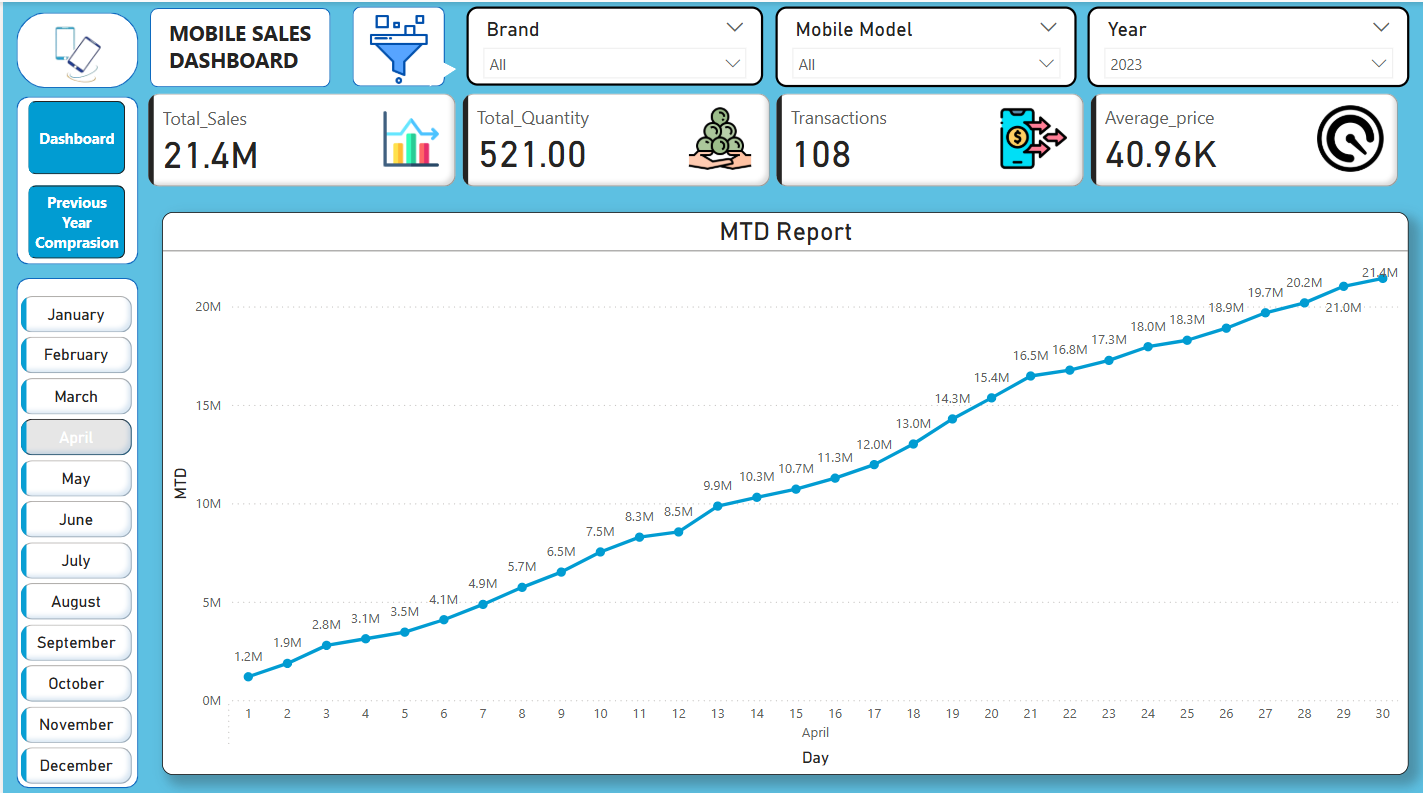

This screenshot's page, from the dashboard's own definition file:
{"tool":"powerbi","page":{"name":"MTD Dashboard","canvas":[1280,720],"ordinal":1},"visuals":[{"type":"shape","box":[12.5,9.7,109.7,68.1],"z":0},{"type":"image","box":[25,0,86.1,94.4],"z":1000},{"type":"shape","box":[12.5,84.7,109.7,151.4],"z":2000},{"type":"shape","box":[12.5,248.6,109.7,459.7],"z":3000},{"type":"advancedSlicerVisual","fields":{"Values":["Custom_Calender.Date.Variation.Date Hierarchy.Month"]},"box":[10.6,258.9,110.5,460.3],"z":4000},{"type":"cardVisual","fields":{"Data":["Mobile_Sales_Data.Total_Sales","Mobile_Sales_Data.Total_Quantity","Mobile_Sales_Data.Transactions","Mobile_Sales_Data.Average_price"]},"box":[111.4,77.1,1168.6,94.3],"z":5000},{"type":"slicer","fields":{"Values":["Mobile_Sales_Data.Mobile Model"]},"box":[695.7,4.3,271.4,72.9],"z":6000},{"type":"slicer","fields":{"Values":["Custom_Calender.Date.Variation.Date Hierarchy.Year"]},"box":[977.1,4.3,290,72.9],"z":7000},{"type":"slicer","fields":{"Values":["Mobile_Sales_Data.Brand"]},"box":[417.1,4.3,267.1,71.4],"z":8000},{"type":"shape","box":[314.3,4.3,83.3,72.2],"z":9000,"group":"g1"},{"type":"group","id":"g1","title":"Group 1","box":[314.3,4.3,102.9,71.4],"z":9000},{"type":"image","box":[295.7,5.7,121.4,74.3],"z":10000},{"type":"shape","box":[132.9,5.7,162.9,71.4],"z":11000},{"type":"shape","box":[374,47.4,43.1,29.2],"z":11000,"group":"g1"},{"type":"textbox","box":[144.3,10,151.4,74.3],"z":12000},{"type":"lineChart","title":"MTD Report","fields":{"Y":["Mobile_Sales_Data.MTD"],"Category":["Custom_Calender.Date.Variation.Date Hierarchy.Month","Custom_Calender.Date.Variation.Date Hierarchy.Day"]},"box":[143.8,189.3,1123.5,507.3],"z":13000},{"type":"pageNavigator","box":[22.7,89.3,87.8,142.3],"z":13001}]}

Visuals, with their boxes in screenshot pixels (x1, y1, x2, y2), scaled from the page's 1280x720 canvas onto the 1423x793 screenshot:
shape: [14, 11, 136, 86]
image: [28, 0, 124, 104]
shape: [14, 93, 136, 260]
shape: [14, 274, 136, 780]
advancedSlicerVisual - Custom_Calender.Date.Variation.Date Hierarchy.Month: [12, 285, 135, 792]
cardVisual - Mobile_Sales_Data.Total_Sales x Mobile_Sales_Data.Total_Quantity: [124, 85, 1422, 189]
slicer - Mobile_Sales_Data.Mobile Model: [773, 5, 1075, 85]
slicer - Custom_Calender.Date.Variation.Date Hierarchy.Year: [1086, 5, 1409, 85]
slicer - Mobile_Sales_Data.Brand: [464, 5, 761, 83]
shape: [349, 5, 442, 84]
"Group 1" group: [349, 5, 464, 83]
image: [329, 6, 464, 88]
shape: [148, 6, 329, 85]
shape: [416, 52, 464, 84]
textbox: [160, 11, 329, 93]
"MTD Report" lineChart: [160, 208, 1409, 767]
pageNavigator: [25, 98, 123, 255]
